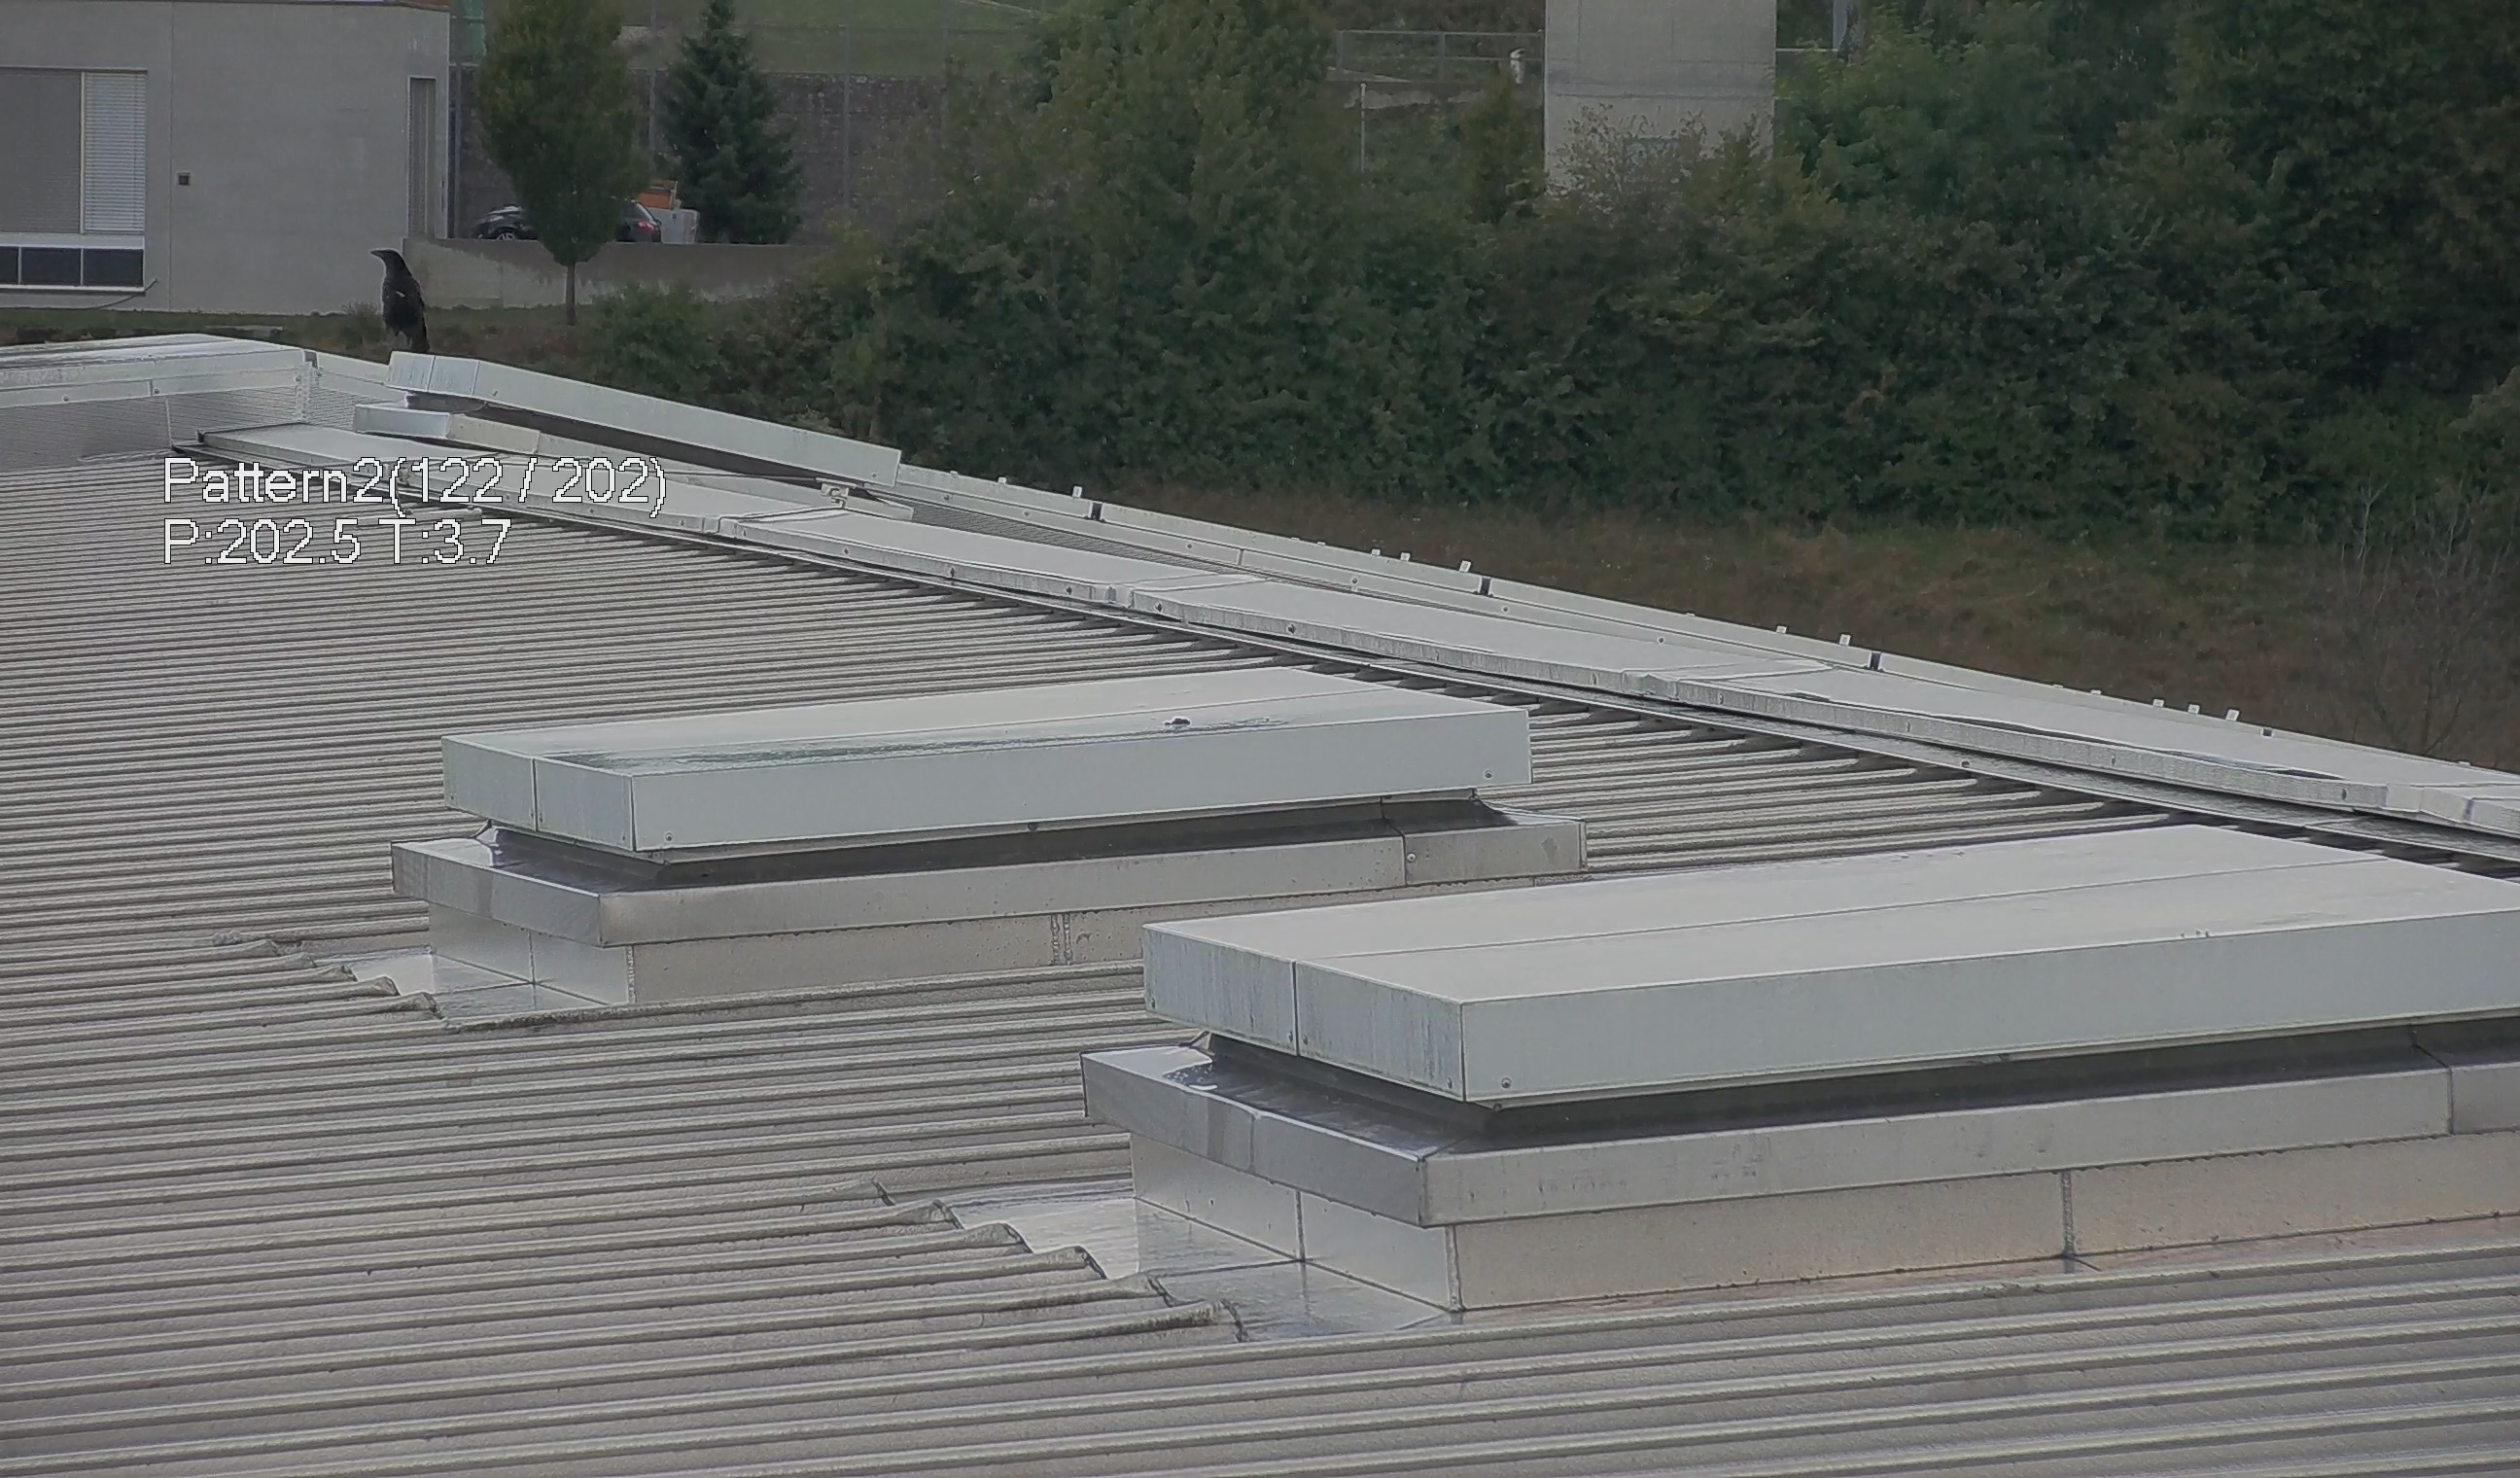Pigeon: (362, 230, 433, 357)
